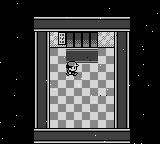leer: (58, 31, 65, 49)
main: (66, 62, 79, 74)
no-caminable: (0, 0, 159, 143), (35, 31, 50, 128), (115, 31, 130, 128), (34, 17, 131, 31), (33, 129, 130, 143)
puerta: (64, 49, 100, 63), (65, 34, 98, 48)
